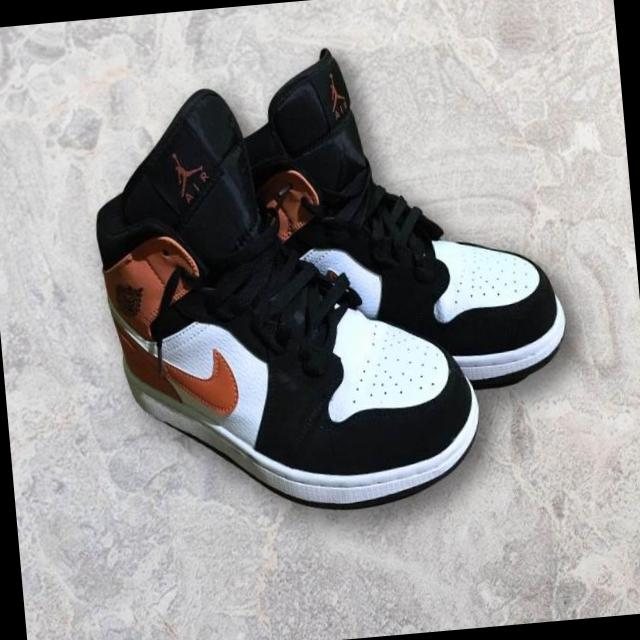nike_fake_jordan: (81, 66, 490, 531), (164, 23, 574, 417)
